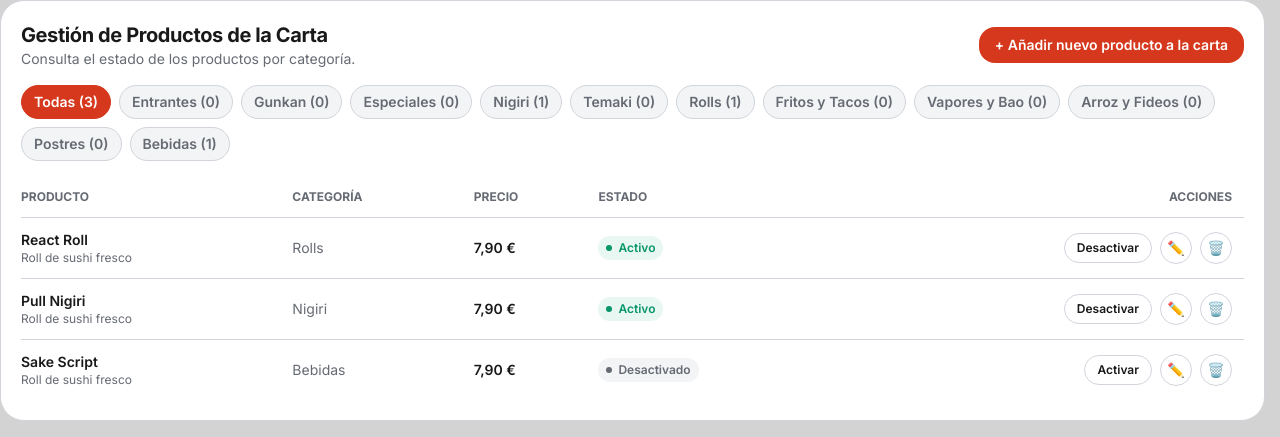
Test: AdminProductsPanel › activating and deactivating › activates without asking for confirmation
Click the button "Activar".
click(1118, 370)  # box [1084,355,1152,385]
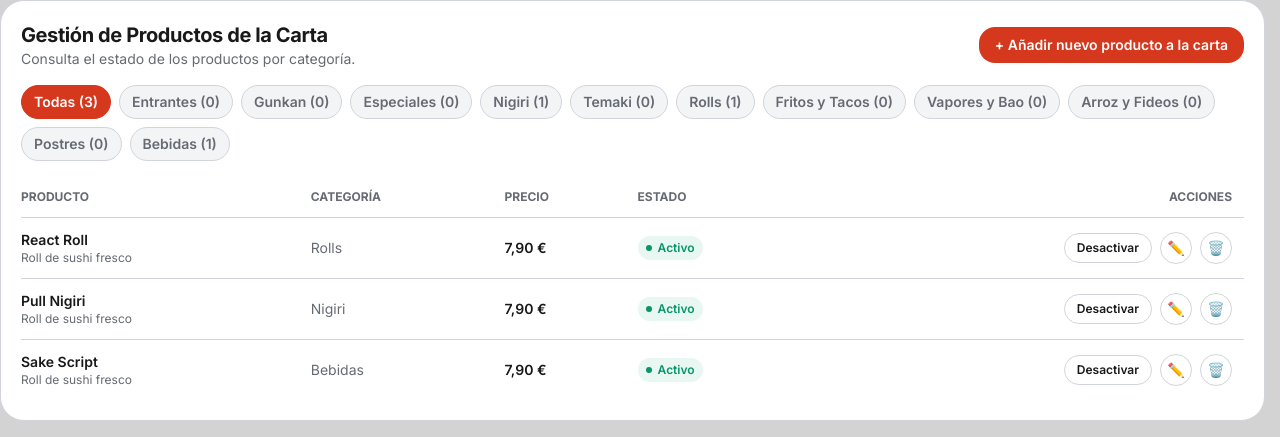
Expected: the button "Desactivar" in the row of "Sake Script" is shown, [1064,355,1152,385]
